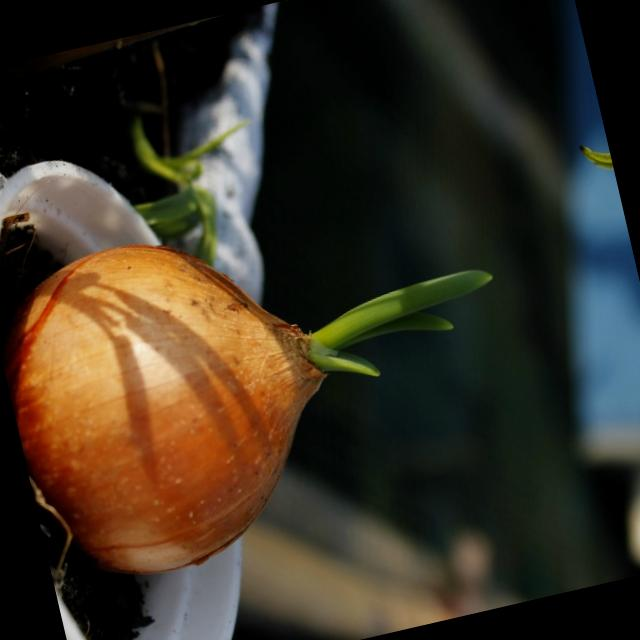onion: (0, 195, 369, 605)
